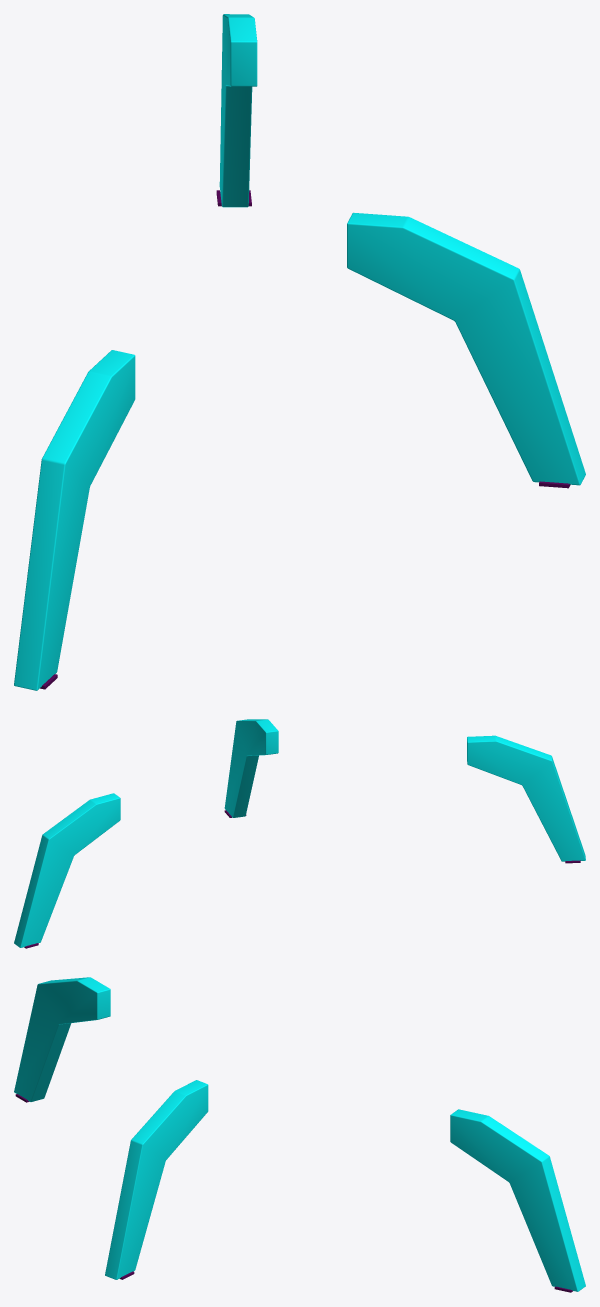
The model's file is levante_legs_footstool_mirror.gltf.
3 views of the same model, one above another, from view 1: azimuth 30°, elevation 25°; view 2: azimuth 150°, elevation 25°; view 3: azimuth 270°, elevation 25° (orthographic). The views are drawn at different scales.
Visible parts, largest first — view 1: leg_footstool001; view 2: leg_footstool001; view 3: leg_footstool001.
Part boxes in pixels (left/top/right/bottom): leg_footstool001: left=14, top=14, right=585, bottom=690; leg_footstool001: left=14, top=719, right=585, bottom=948; leg_footstool001: left=14, top=977, right=585, bottom=1292.
Bounding box in the file's own units: 0.6839 × 0.2361 × 0.8135.
